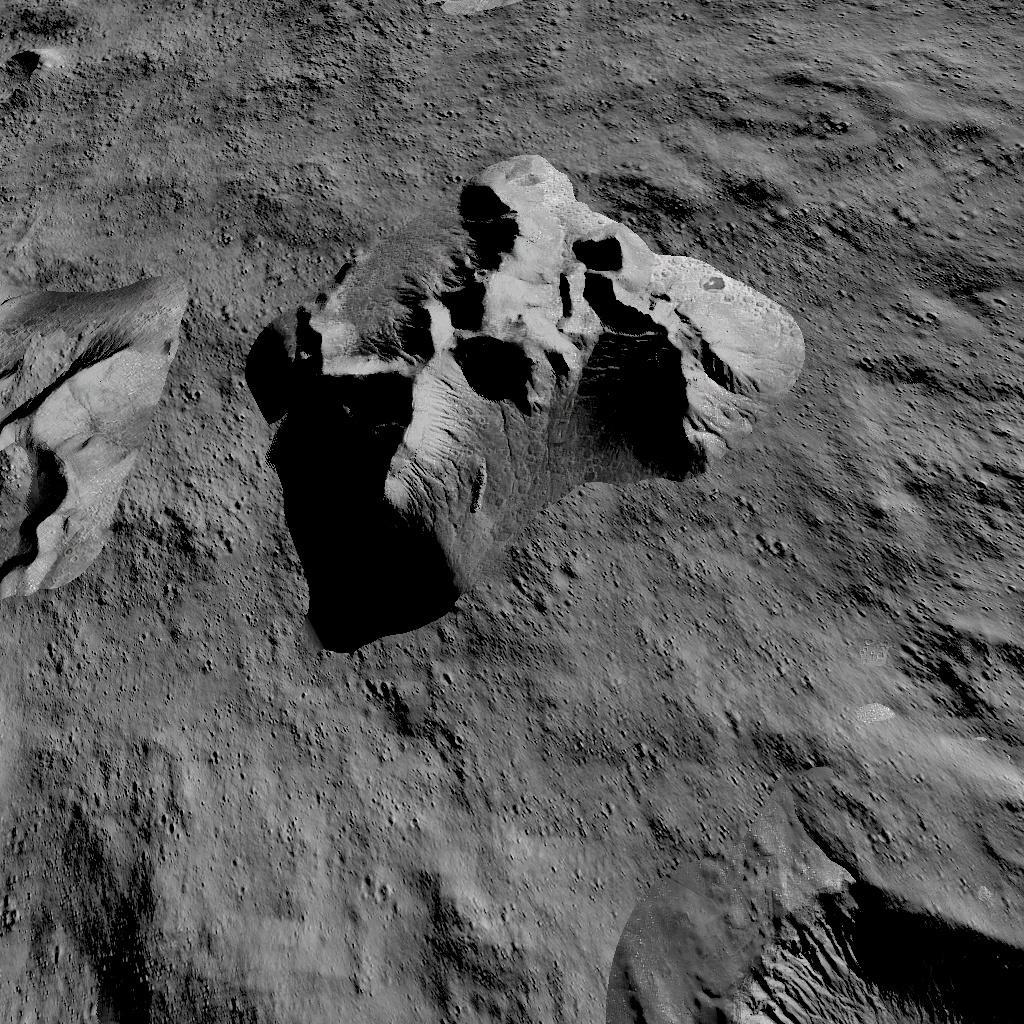Boulders: (245, 146, 809, 658), (5, 264, 190, 622)
Crater: (629, 842, 1024, 1024), (915, 606, 1024, 756), (91, 946, 155, 1024), (0, 32, 65, 93)
Plan surface: (185, 678, 598, 1024), (93, 2, 1024, 124), (829, 152, 1024, 574), (6, 636, 168, 912), (626, 674, 898, 818), (6, 138, 232, 256)
